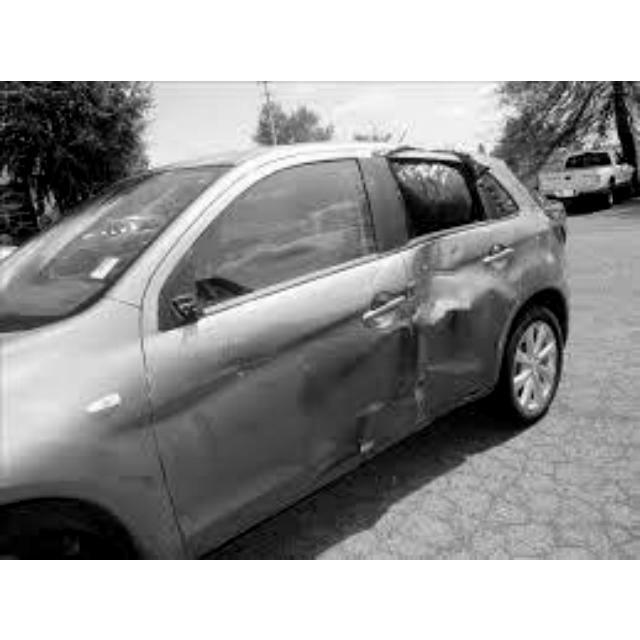doorouter-dent: (200, 295, 402, 485), (415, 236, 511, 399)
